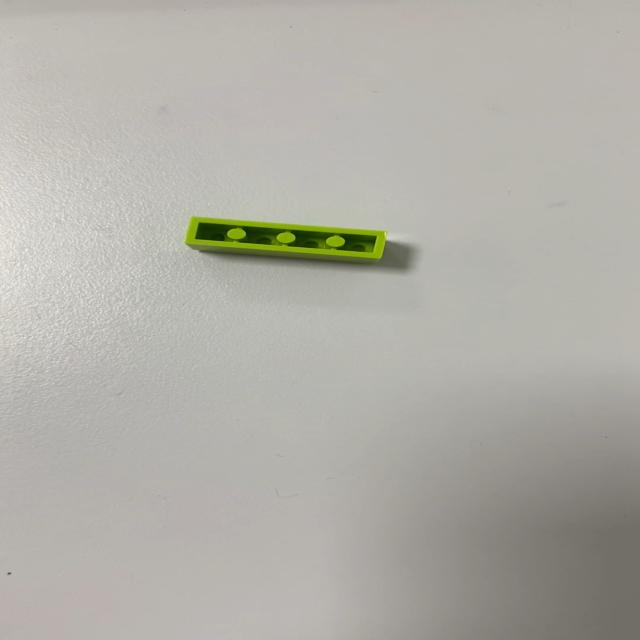C4x1x1: (183, 215, 388, 264)
